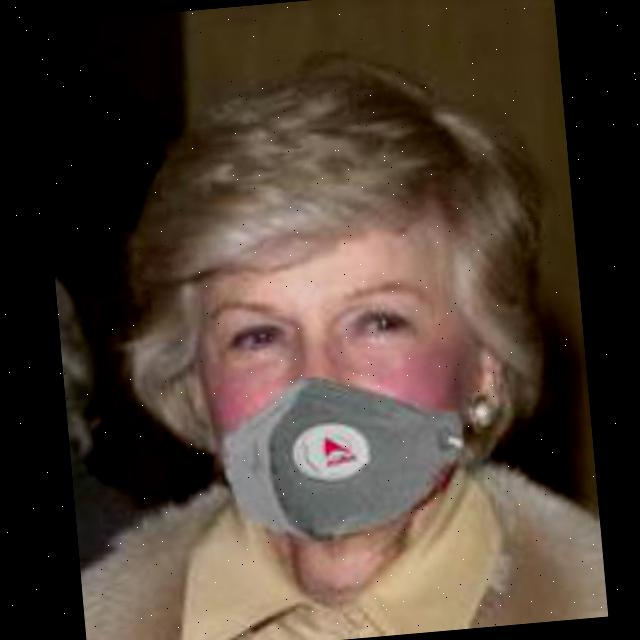suspicion: (120, 124, 544, 598)
